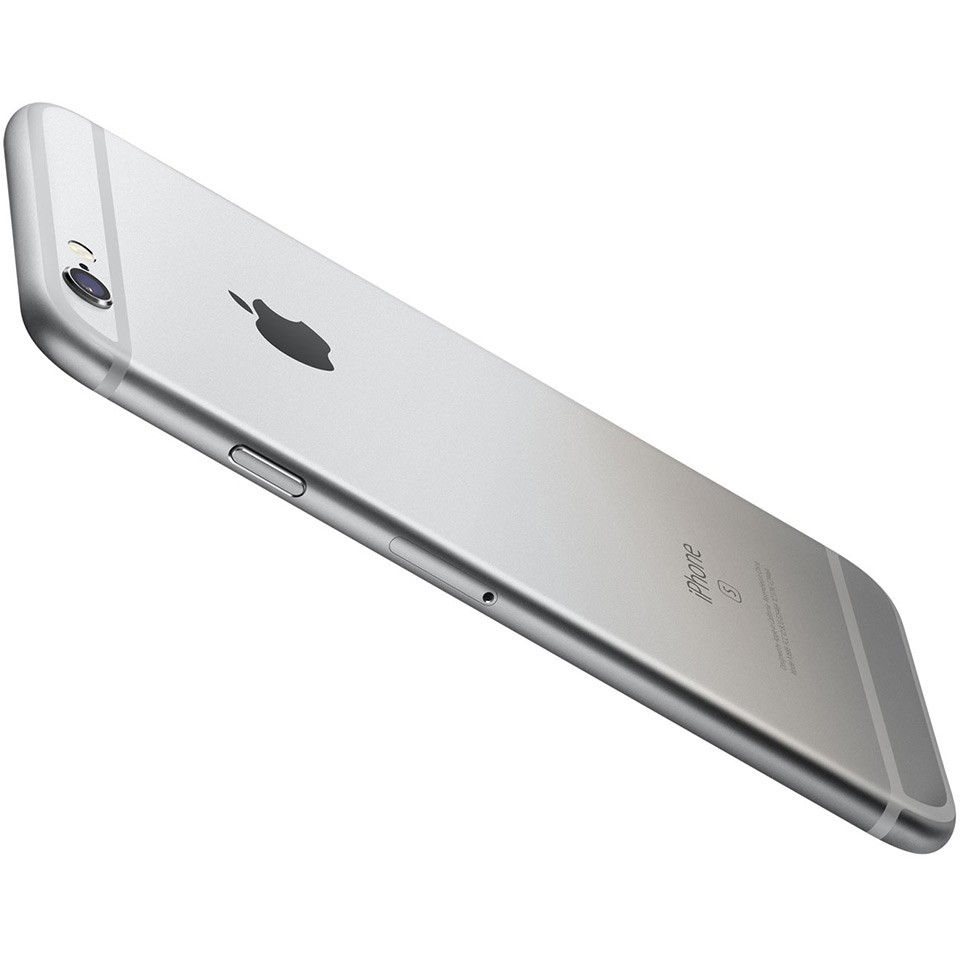Apple: (192, 272, 421, 421)
